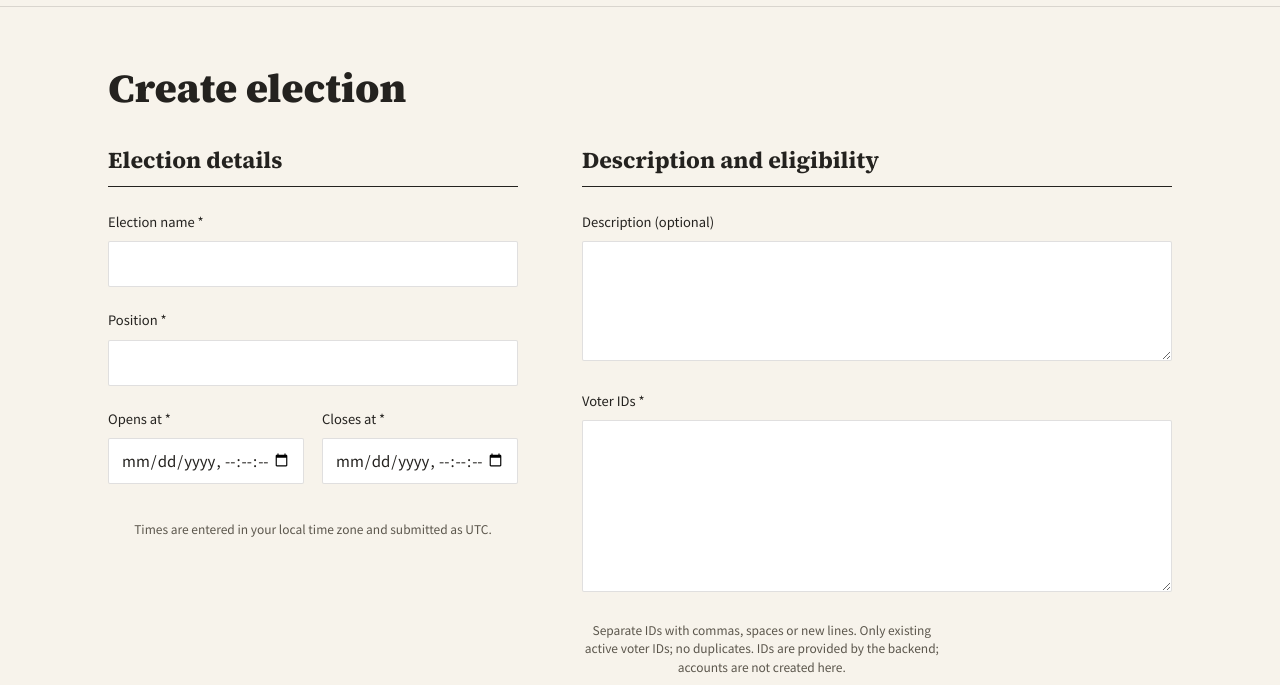
Test: create election › retains form inputs after a known rejection and permits an explicit correction
Expected: the heading "Create election" is shown, [108,61,406,115]
Type "New class representative election" into the field labelled "Election name *".
click(313, 264); type("New class representative election")  # box [108,242,518,288]
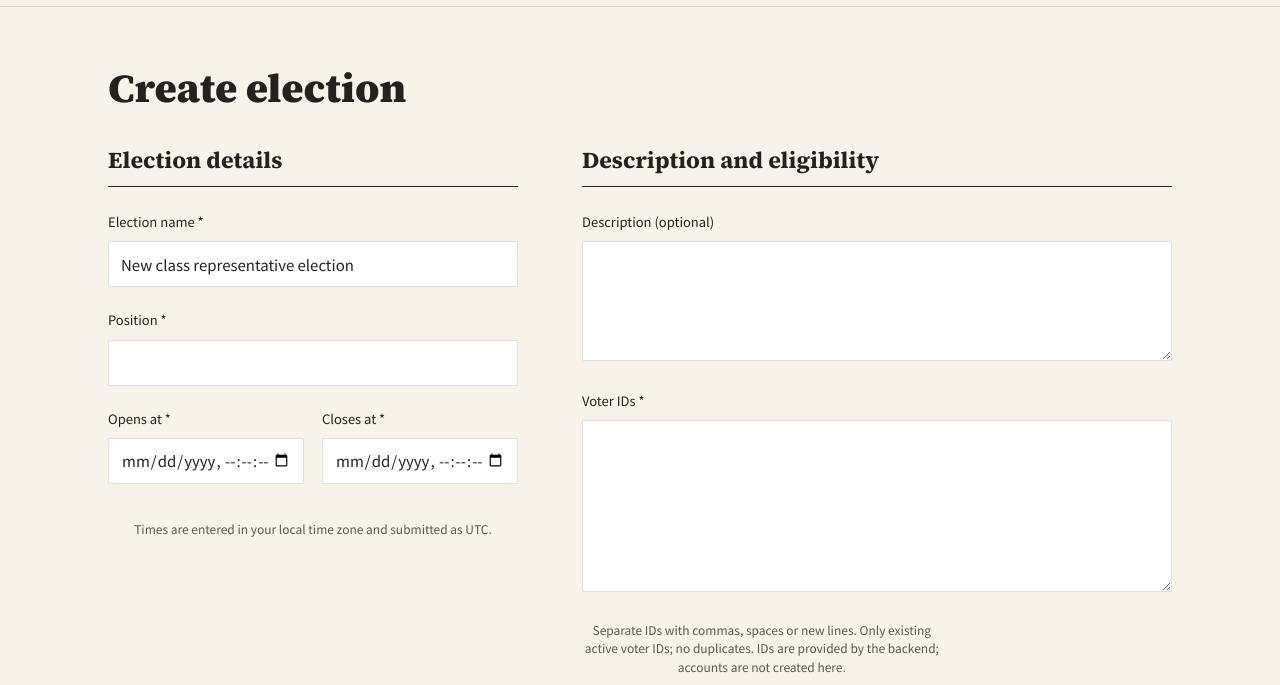
Type "Class representative" into the field labelled "Position *".
click(313, 363); type("Class representative")  # box [108,340,518,386]
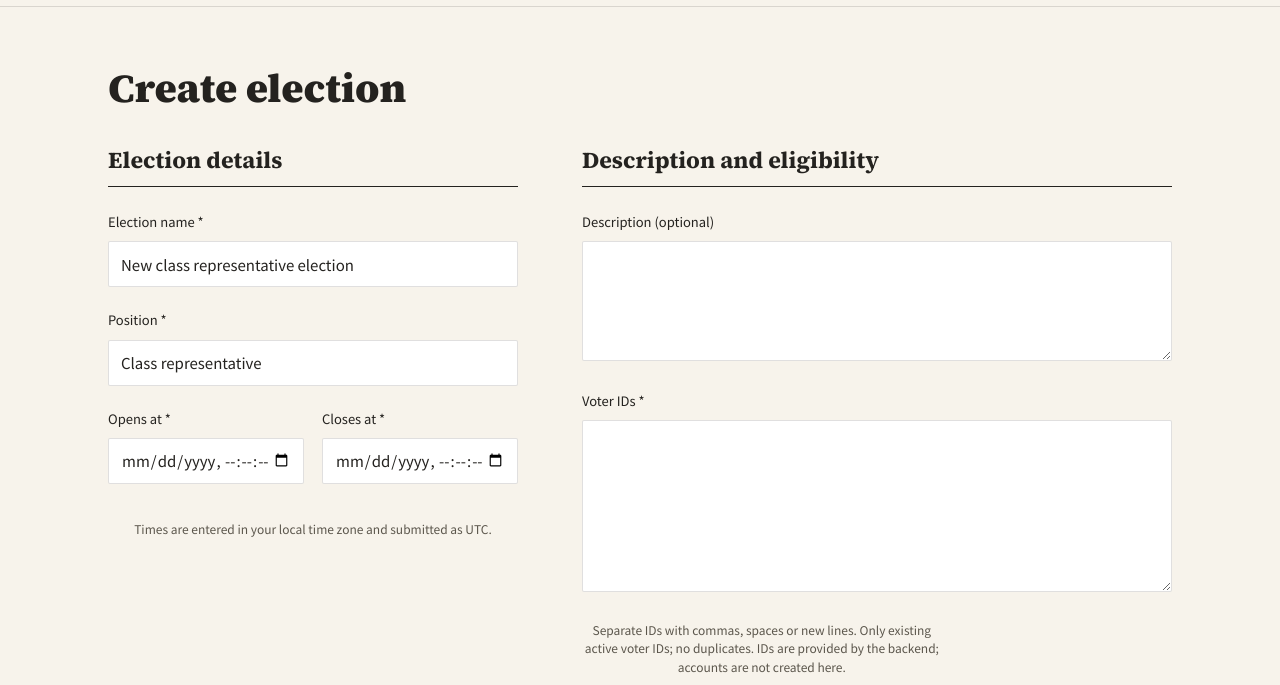
Type "2026-10-20T09:00" into the field labelled "Opens at *".
click(206, 461); type("2026-10-20T09:00")  # box [108,438,304,484]
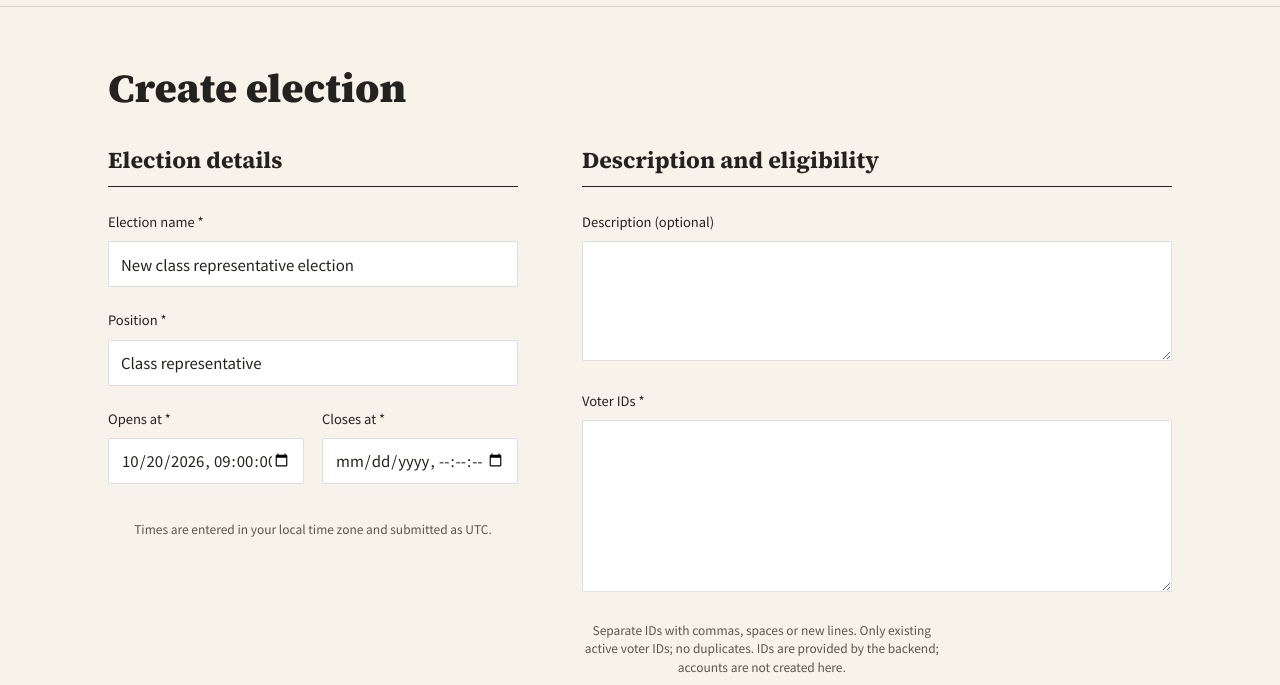
Type "2026-10-20T17:00" into the field labelled "Closes at *".
click(420, 461); type("2026-10-20T17:00")  # box [322,438,518,484]
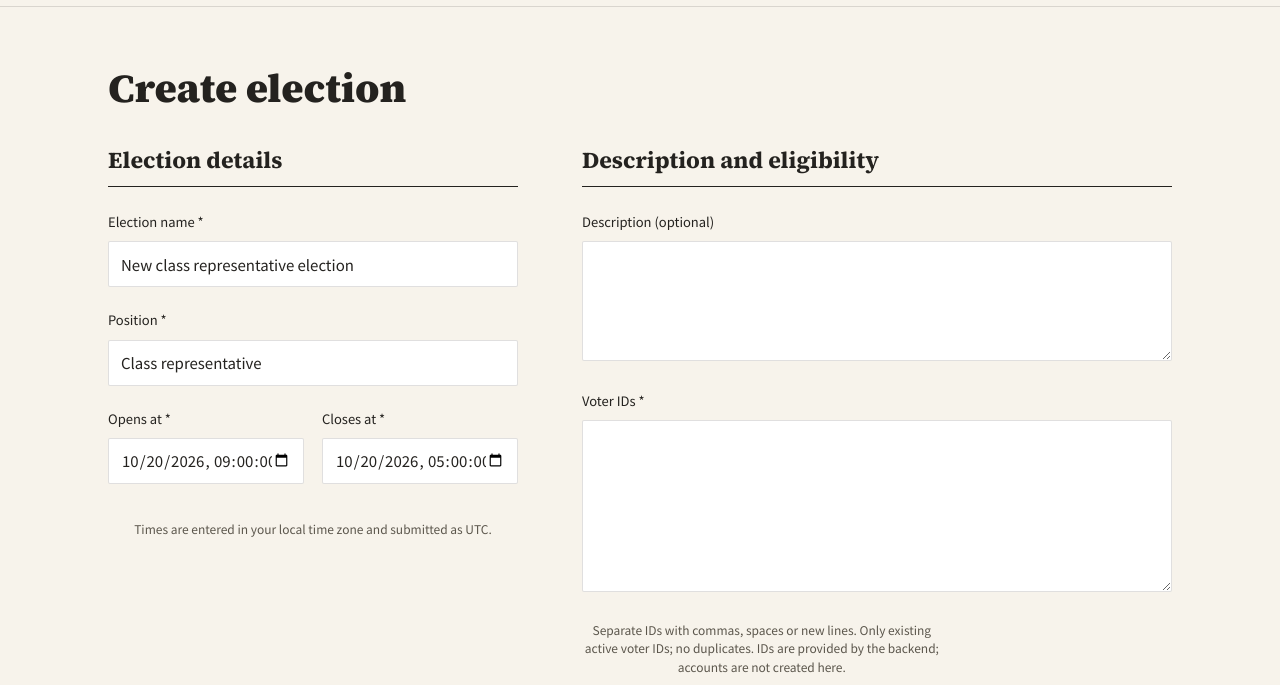
Type "21,9007199254740995" into the text box labelled "Voter IDs *".
click(877, 506); type("21,9007199254740995")  # box [582,420,1172,592]
(page scrolled)
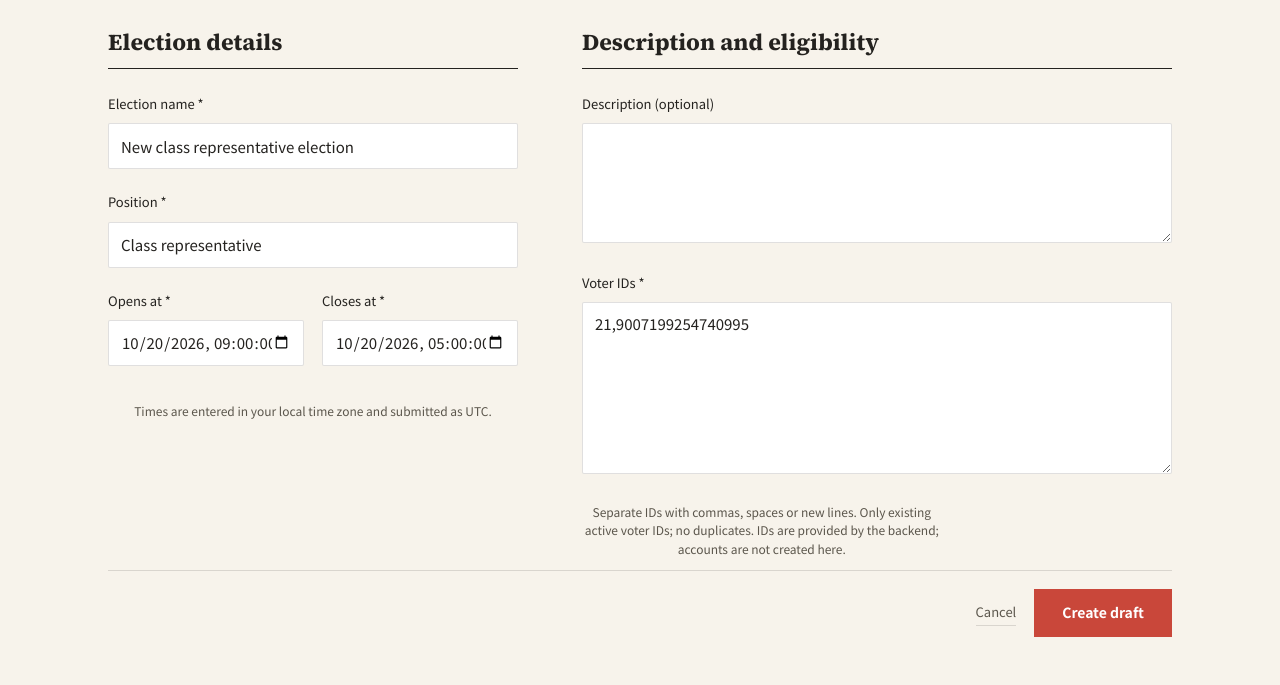
Click the button "Create draft".
click(1103, 613)  # box [1034,589,1172,637]
(page scrolled)
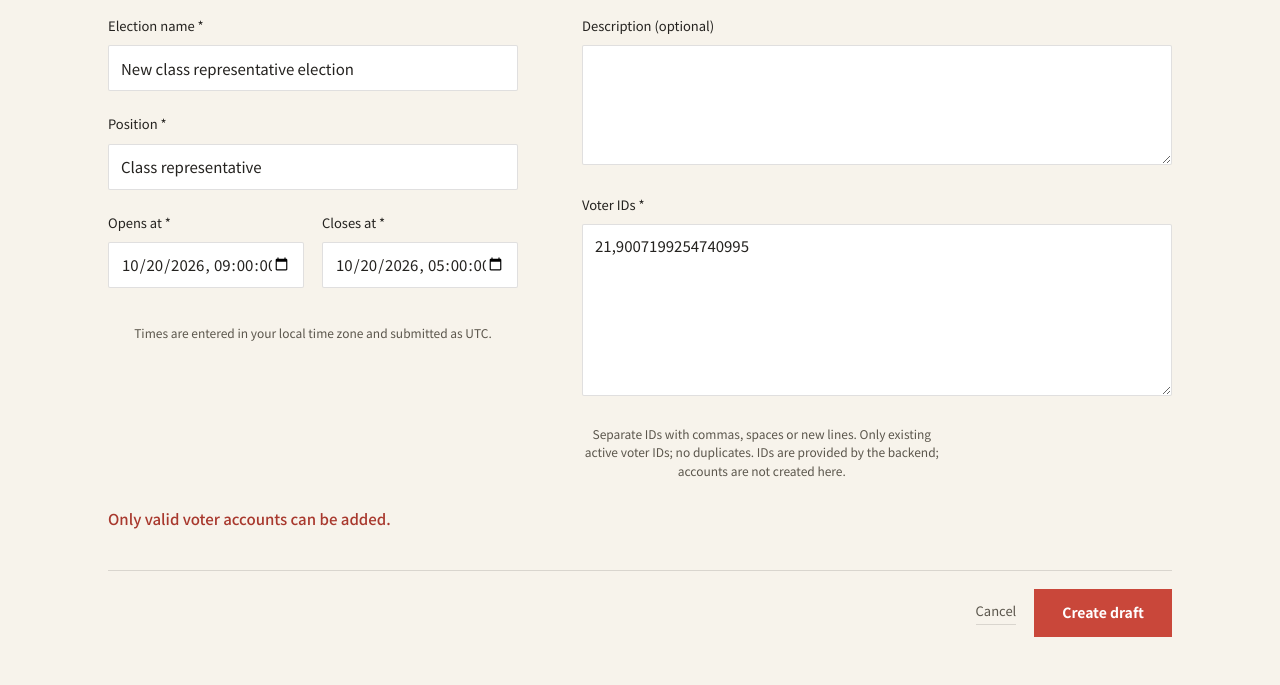
Expected: the message shows "Only valid voter accounts", [108,508,391,529]
